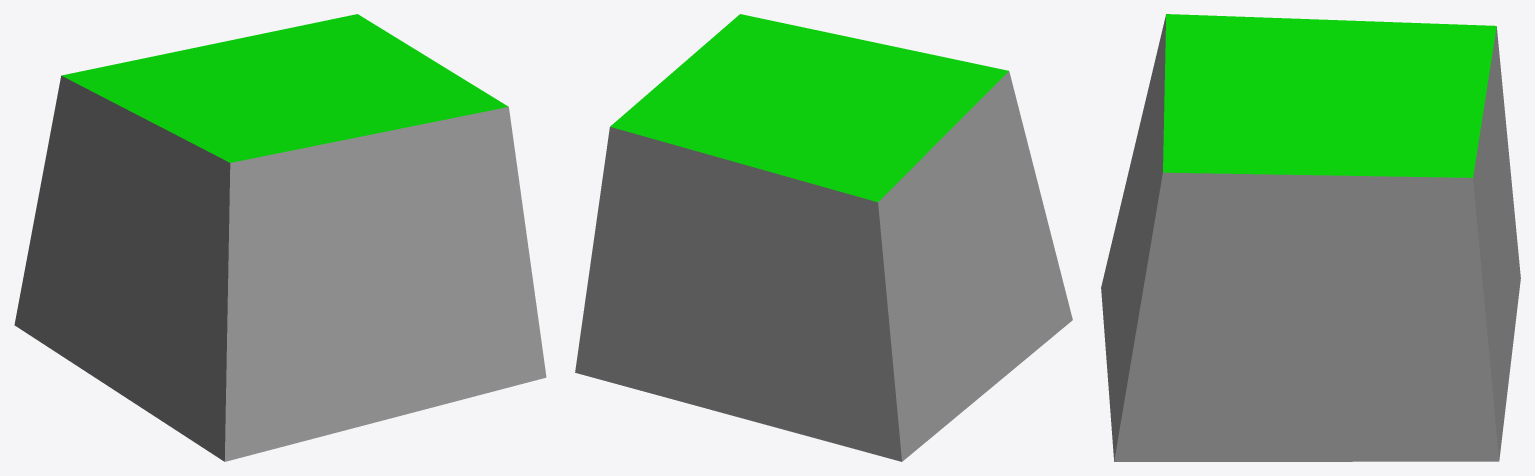
Rendered from rock_gen_mini_E.fbx.
The picture shows the model from 3 angles, left to right: view 1: azimuth 30°, elevation 25°; view 2: azimuth 150°, elevation 25°; view 3: azimuth 270°, elevation 25°; orthographic projection. The views are drawn at different scales.
Parts seen in each view (by area): view 1: rock_gen_mini_E; view 2: rock_gen_mini_E; view 3: rock_gen_mini_E.
Part boxes in pixels (box(x1,y1,x2,y2)): rock_gen_mini_E: box(14, 14, 546, 461); rock_gen_mini_E: box(575, 14, 1072, 461); rock_gen_mini_E: box(1101, 14, 1520, 461).
Size of the model in its own units: 4.83 by 3.59 by 4.67.
